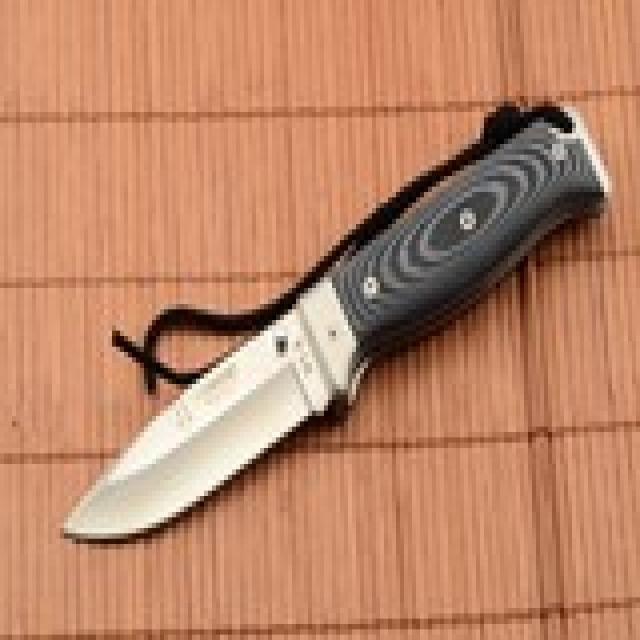Knife: (41, 96, 610, 547)
